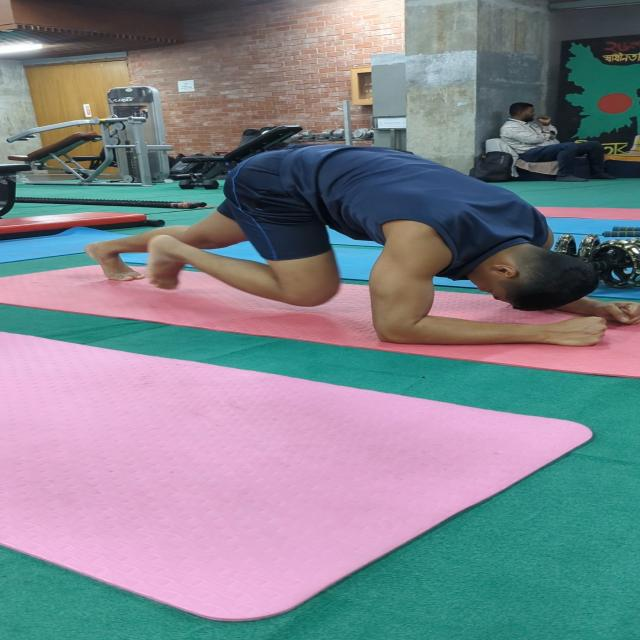Normal_MountainClimbers: (77, 134, 640, 362)
